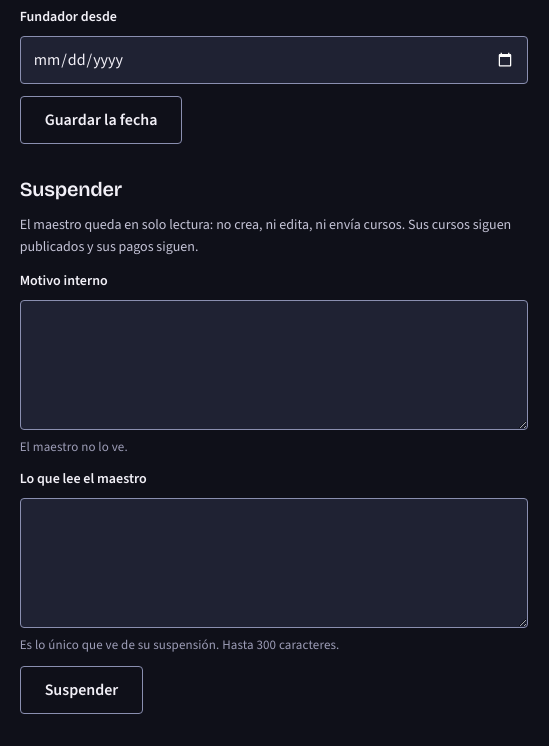
it: PA-66 › si confirmar falla, se cierra la pregunta, el aviso toma el foco y lo escrito se queda
(page scrolled)
In the text box labelled "Motivo interno": (274, 365) [20,300,528,430], type "Motivo"
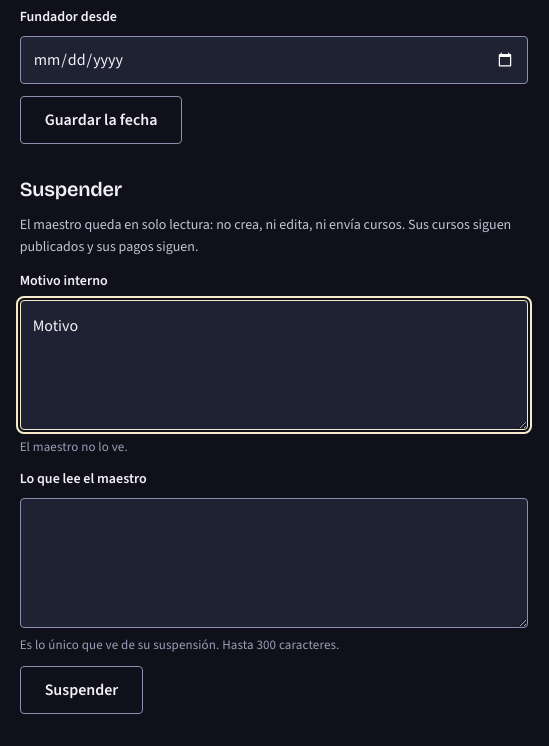
In the text box labelled "Lo que lee el maestro": (274, 563) [20,498,528,628], type "Aviso"
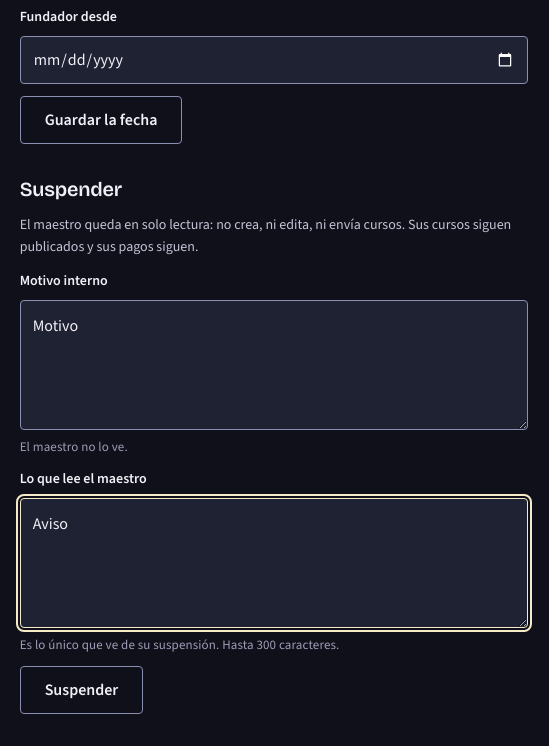
Click the button "Suspender": (81, 690) [20,666,143,714]
(page scrolled)
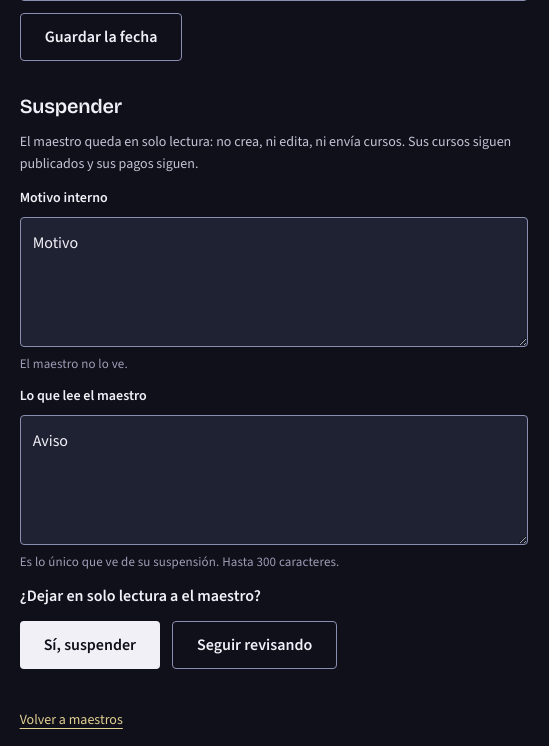
Click the button "Sí, suspender": (90, 645) [20,621,160,669]
(page scrolled)
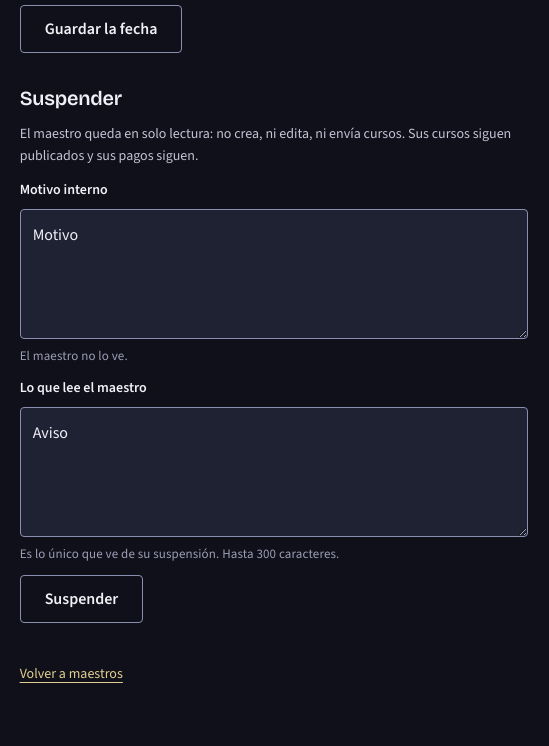
Now the text box labelled "Motivo interno" holds "Motivo", box [20,209,528,339]
Now the text box labelled "Lo que lee el maestro" holds "Aviso", box [20,407,528,537]
Now the button "Sí, suspender" is gone
